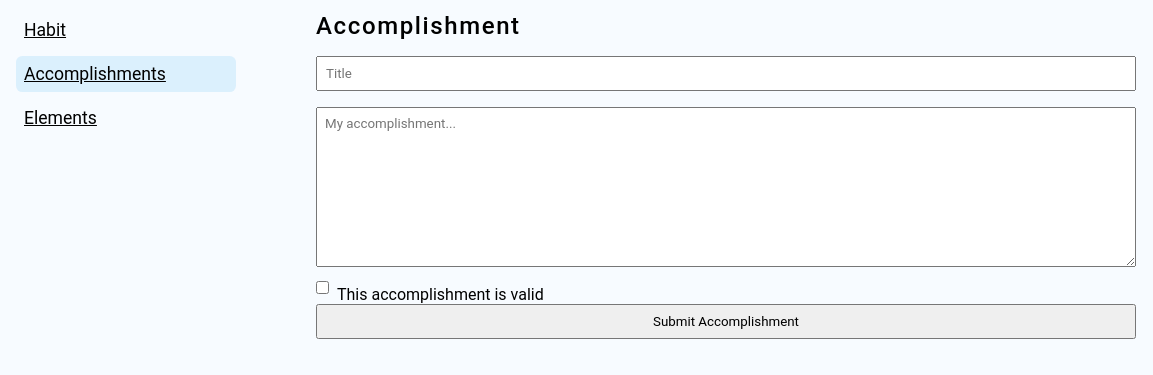
Test: Accomplishments Dashboard › should showcase error if info is missing
This screenshot has width=1153, height=375.
Type "My basketball accomplishment" into the field with test id "accomplishment-title-input" at (726, 74), box x1=316 y1=56 x2=1136 y2=91
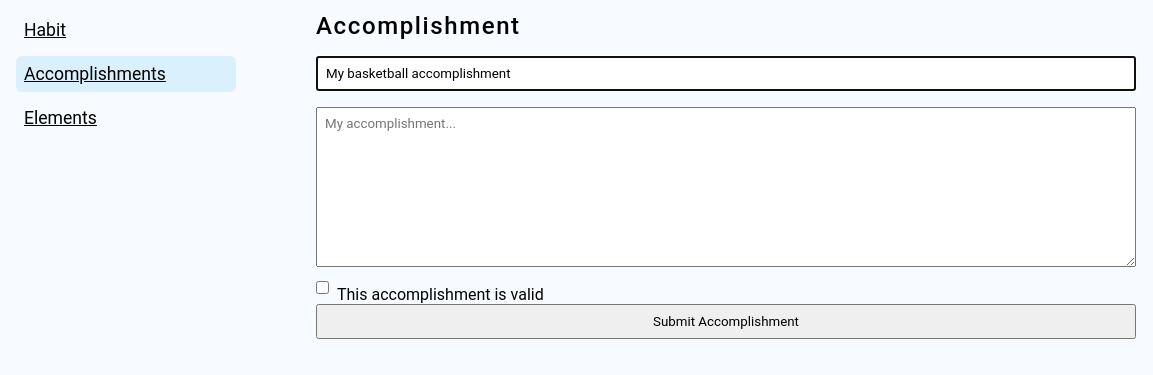
Type "I made the hoop 10x in a row, dude!" into the text box with test id "accomplishment-input" at (726, 187), box x1=316 y1=107 x2=1136 y2=267
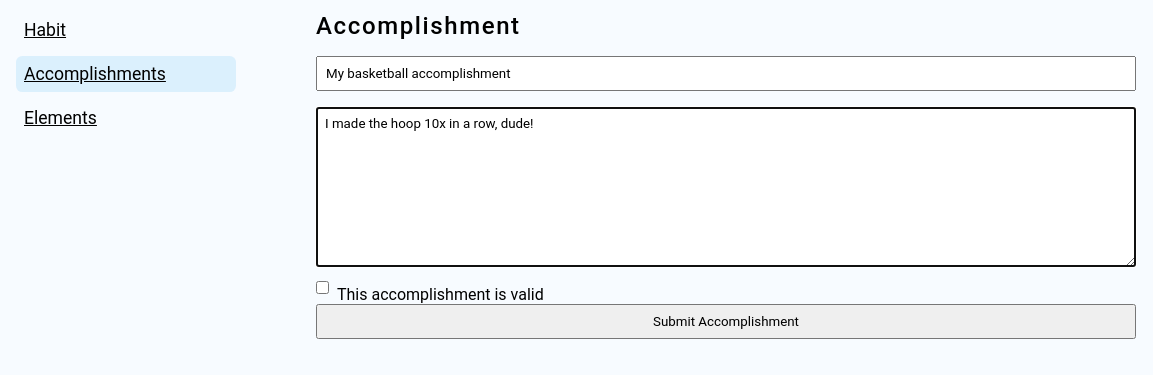
Click the button "Submit Accomplishment" at (726, 322), box x1=316 y1=304 x2=1136 y2=339
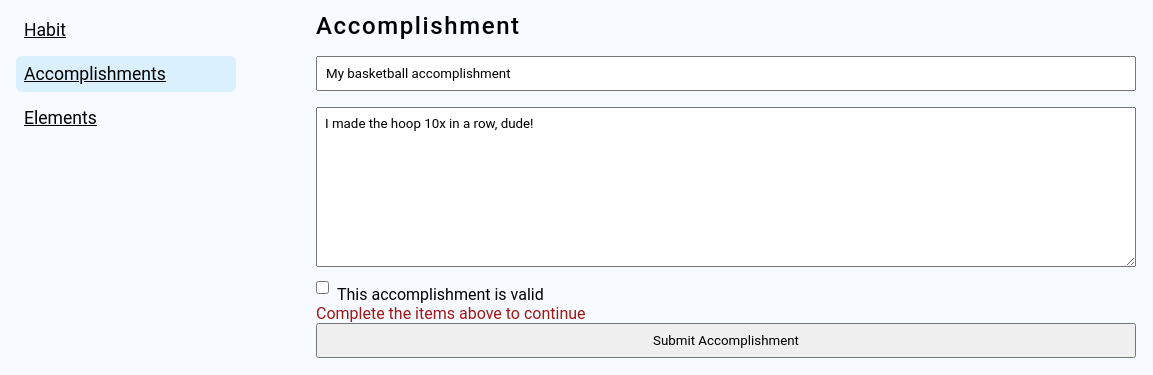
Result: the text "Complete the items above to continue" is shown at x1=316 y1=304 x2=586 y2=323
